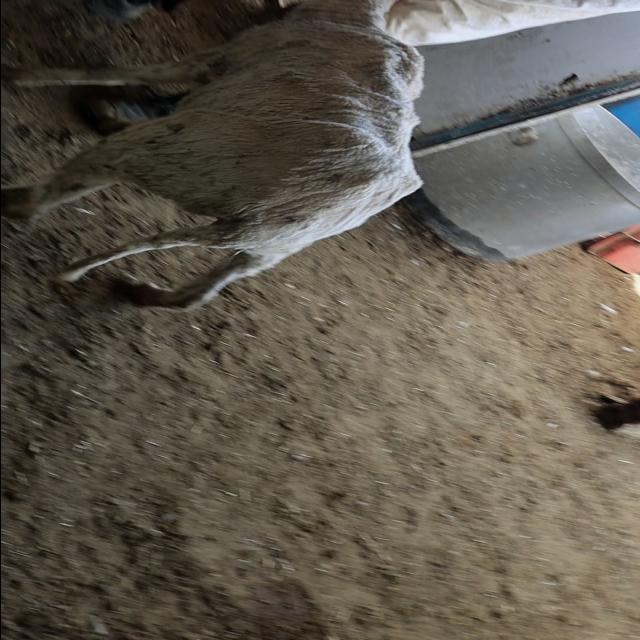Score_1: (1, 0, 423, 309)
